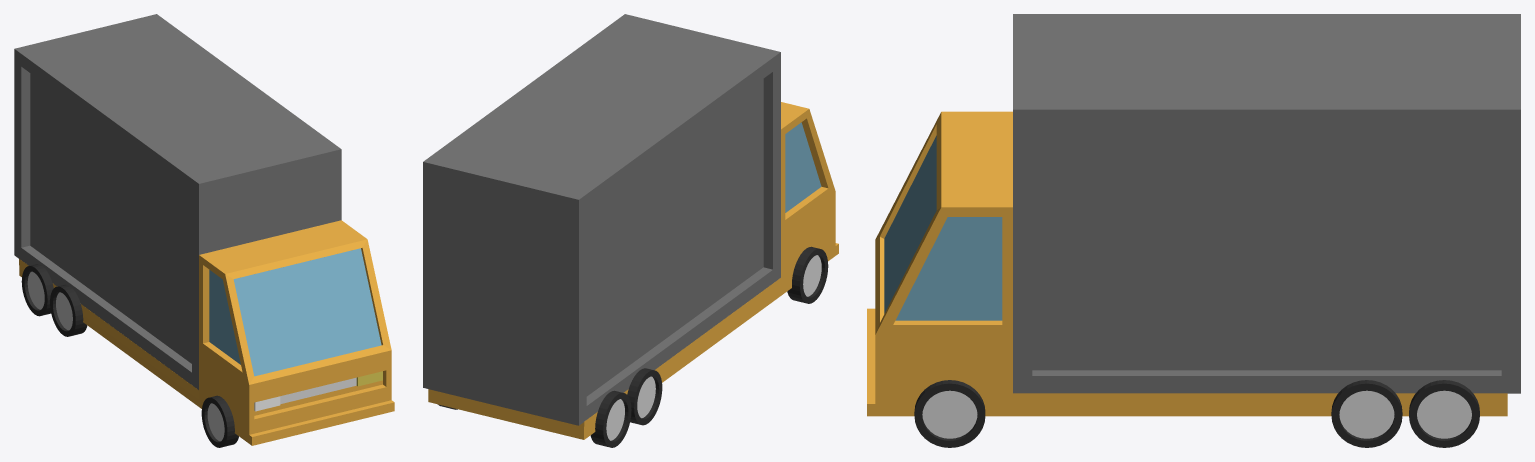
The model's file is truck_yellow.glb.
3 views of the same model, side by side, from view 1: azimuth 30°, elevation 25°; view 2: azimuth 150°, elevation 25°; view 3: azimuth 270°, elevation 25° (orthographic). The views are drawn at different scales.
Visible parts, largest first — view 1: truck_yellow; view 2: truck_yellow; view 3: truck_yellow.
Part boxes in pixels (bbox=[...]): truck_yellow: bbox=[14, 14, 394, 447]; truck_yellow: bbox=[423, 14, 838, 447]; truck_yellow: bbox=[867, 14, 1520, 447].
Bounding box in the file's own units: 2.75 × 4.12 × 7.29.
